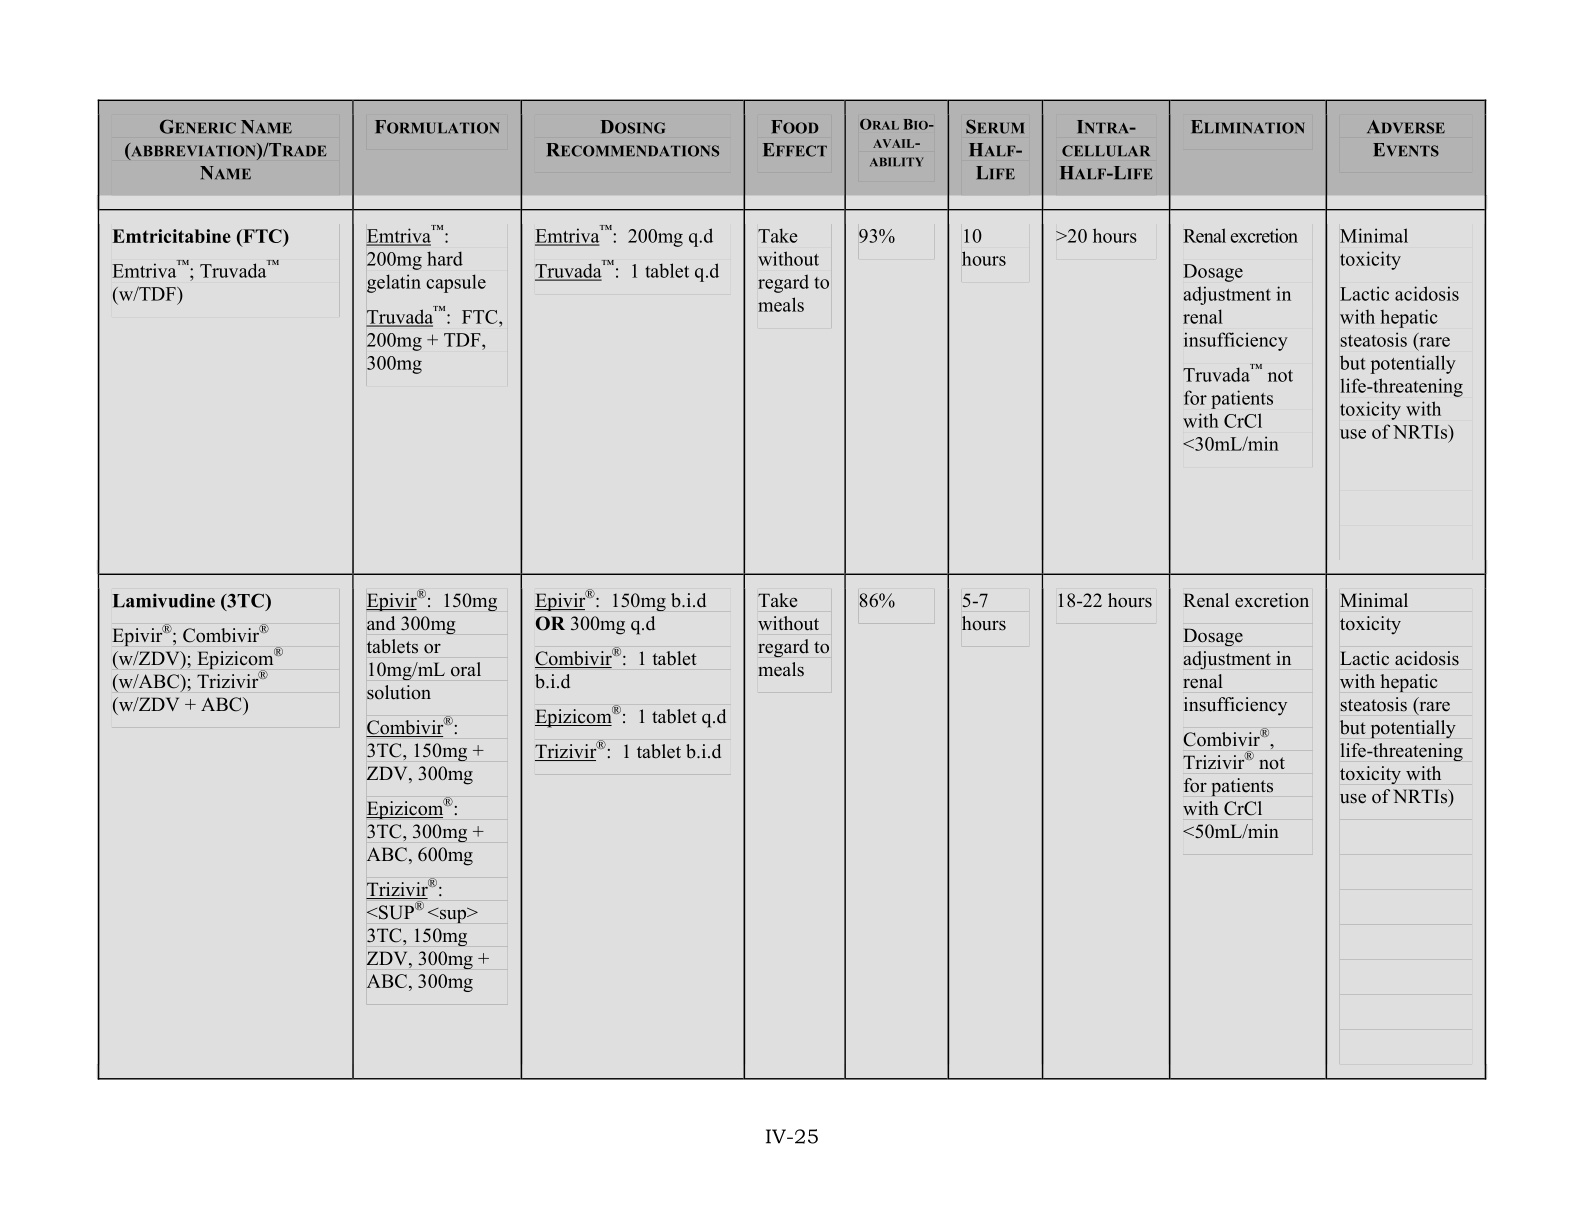full_lined: (96, 99, 1488, 1080)
